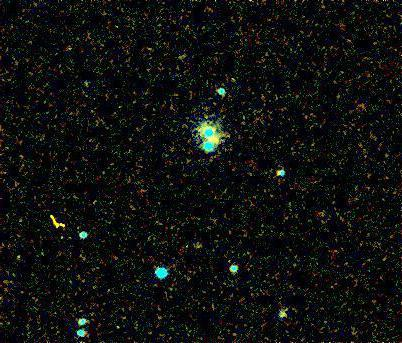star: (203, 125, 233, 155)
